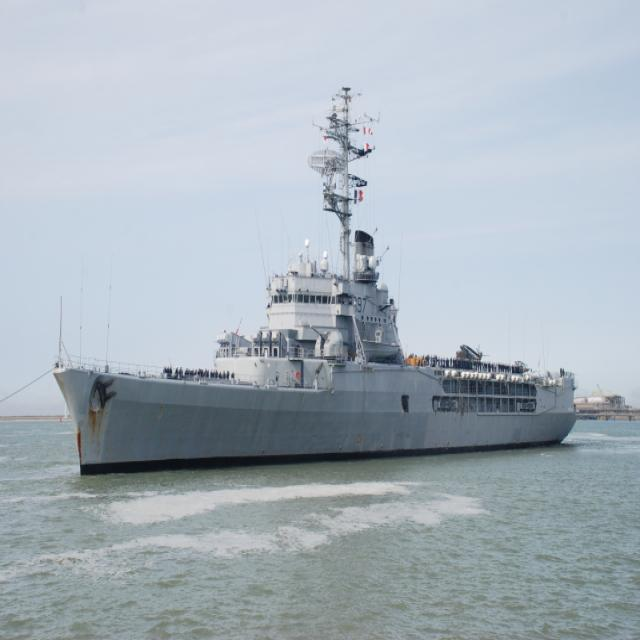Portanaves: (53, 79, 587, 483)
